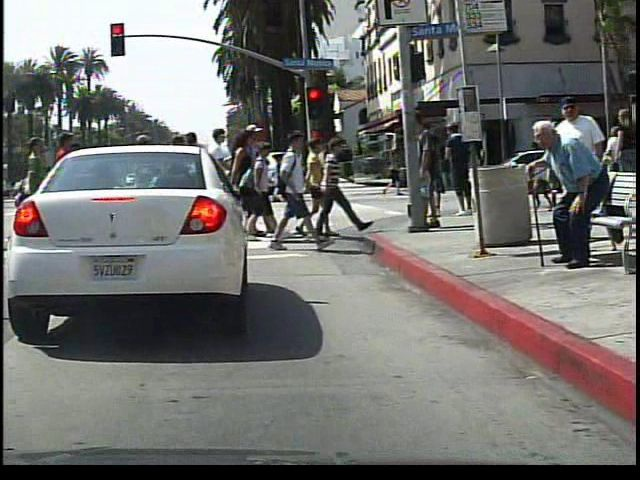person: (520, 121, 614, 276), (380, 138, 403, 197)
